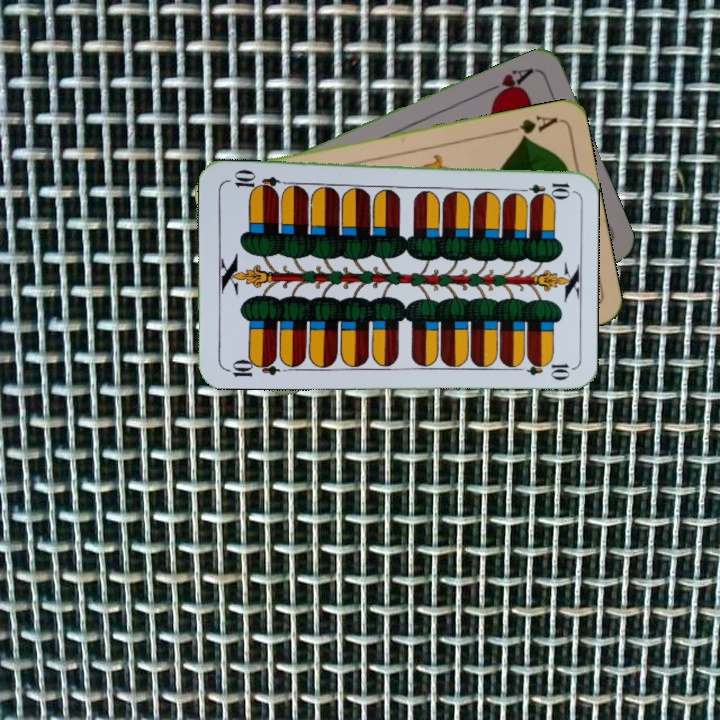E10: (222, 353, 281, 379), (513, 179, 572, 197)
GA: (502, 111, 560, 142)
HA: (482, 63, 538, 103)
